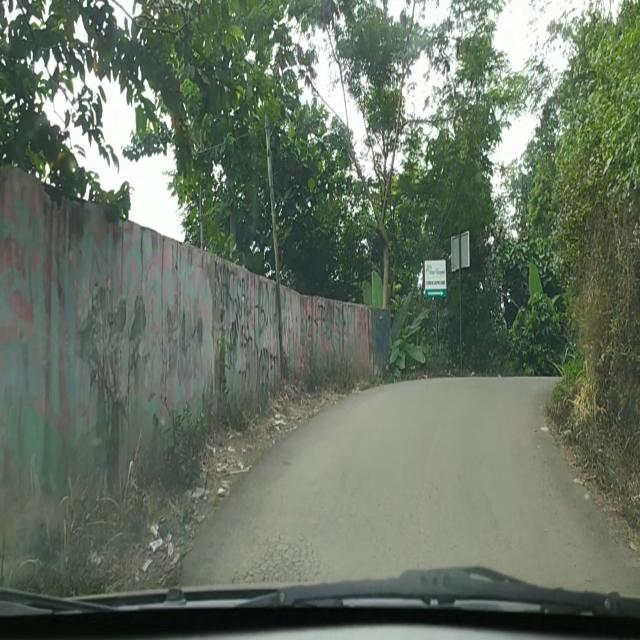Drain Hole: (226, 534, 326, 585)
